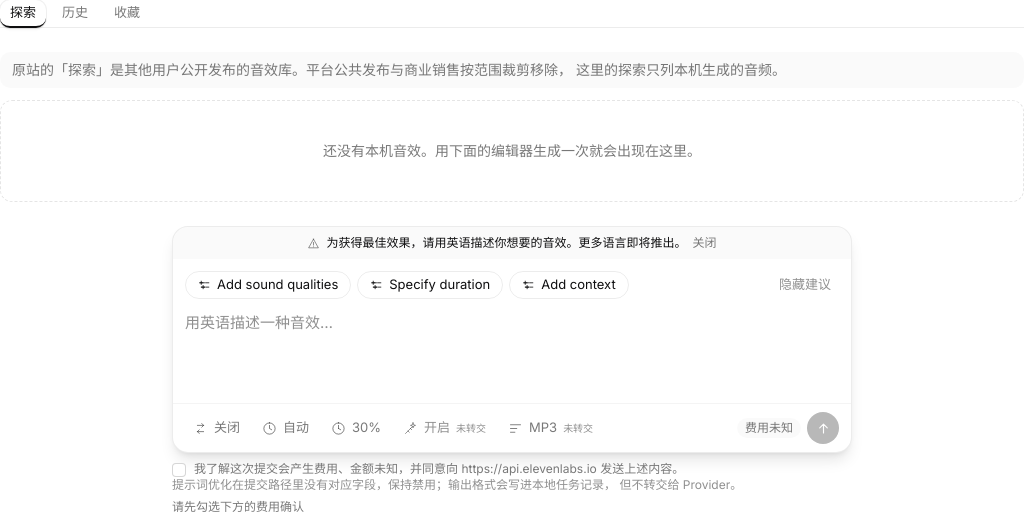
it: SfxPage › blocks on an empty prompt and says what is missing
Expected: the text box named "音效提示词" is shown, [185,311,839,391]
Click the checkbox labelled "我了解这次提交会产生费用、金额未知，并同意向 https://api.elevenlabs.io 发送上述内容。": (179, 470) [172,463,186,477]
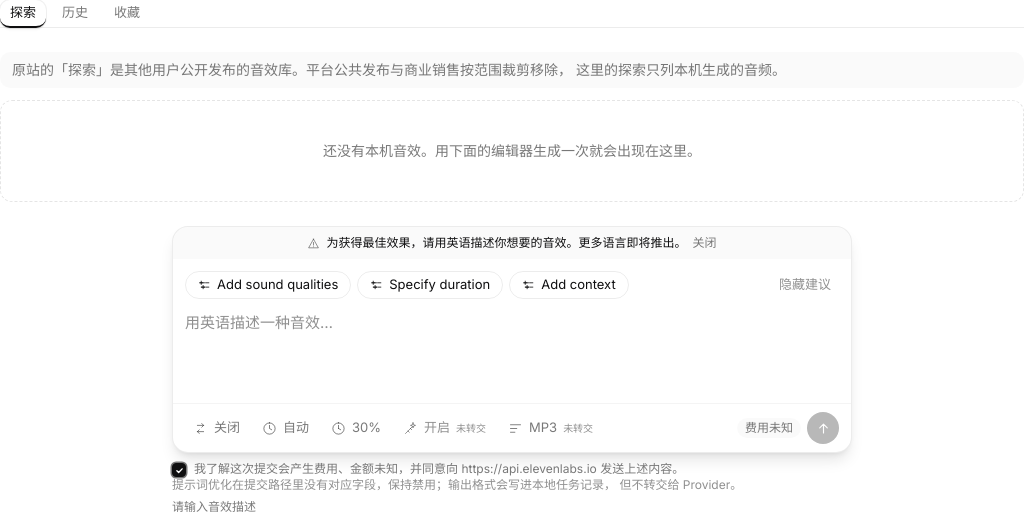
Result: the text "请输入音效描述" is shown at [172,499,256,514]
